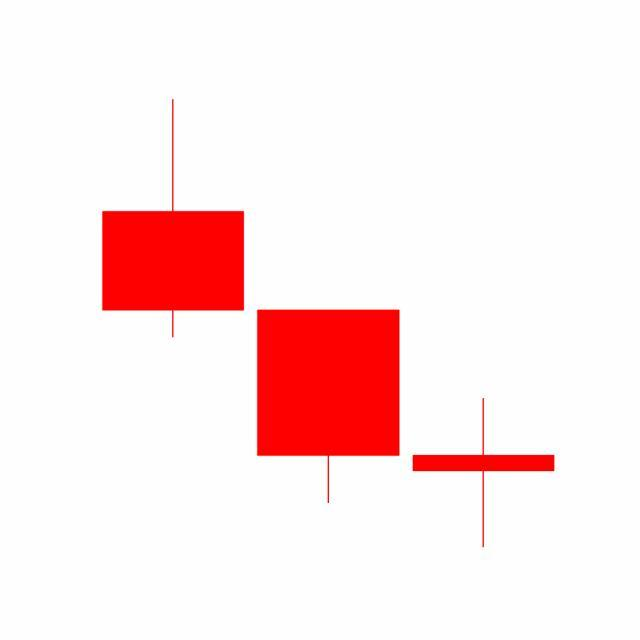Spinning Top: (406, 397, 562, 550)
